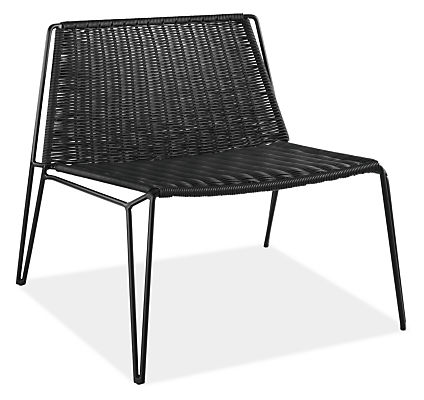chairs: (13, 14, 408, 387)
